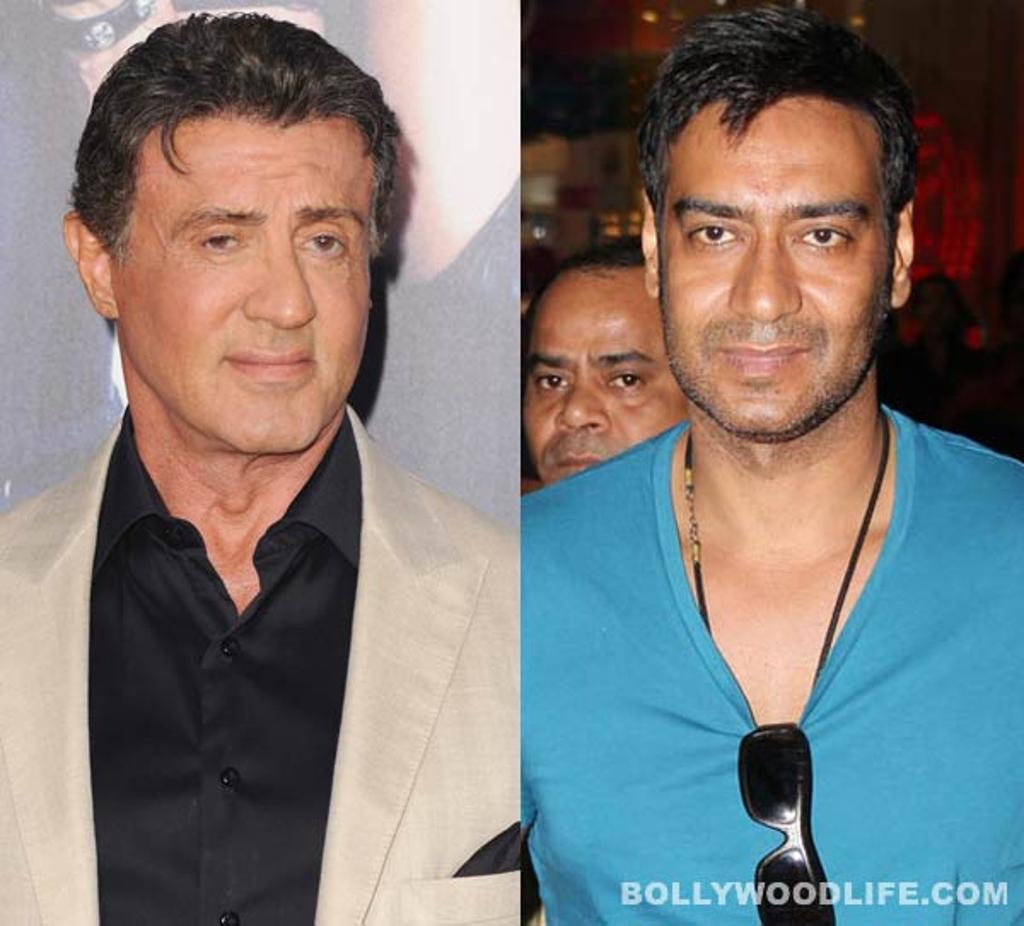face: (120, 118, 372, 450), (664, 102, 876, 440), (530, 278, 674, 504)
